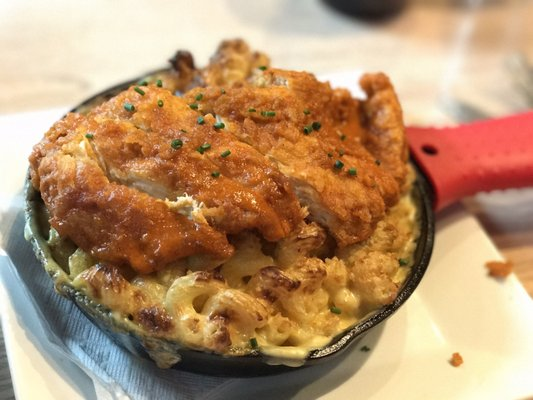sushi: (14, 32, 437, 372)
